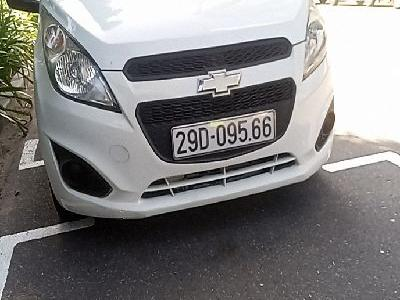number: (169, 110, 275, 161)
